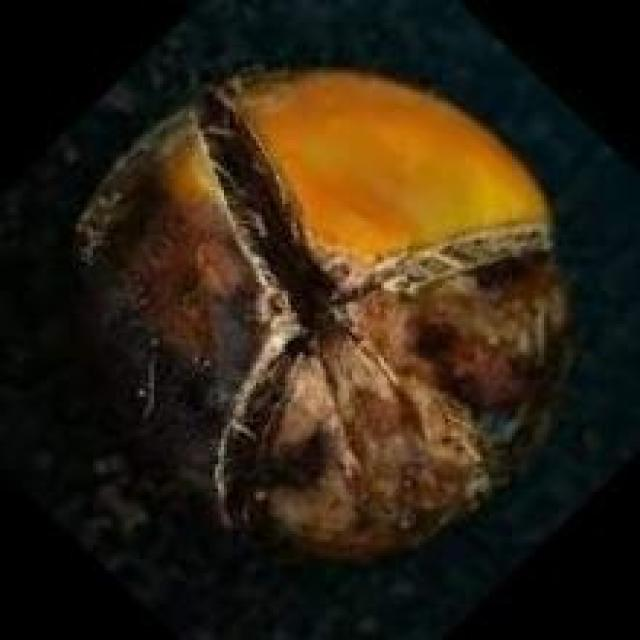damaged: (70, 67, 579, 570)
